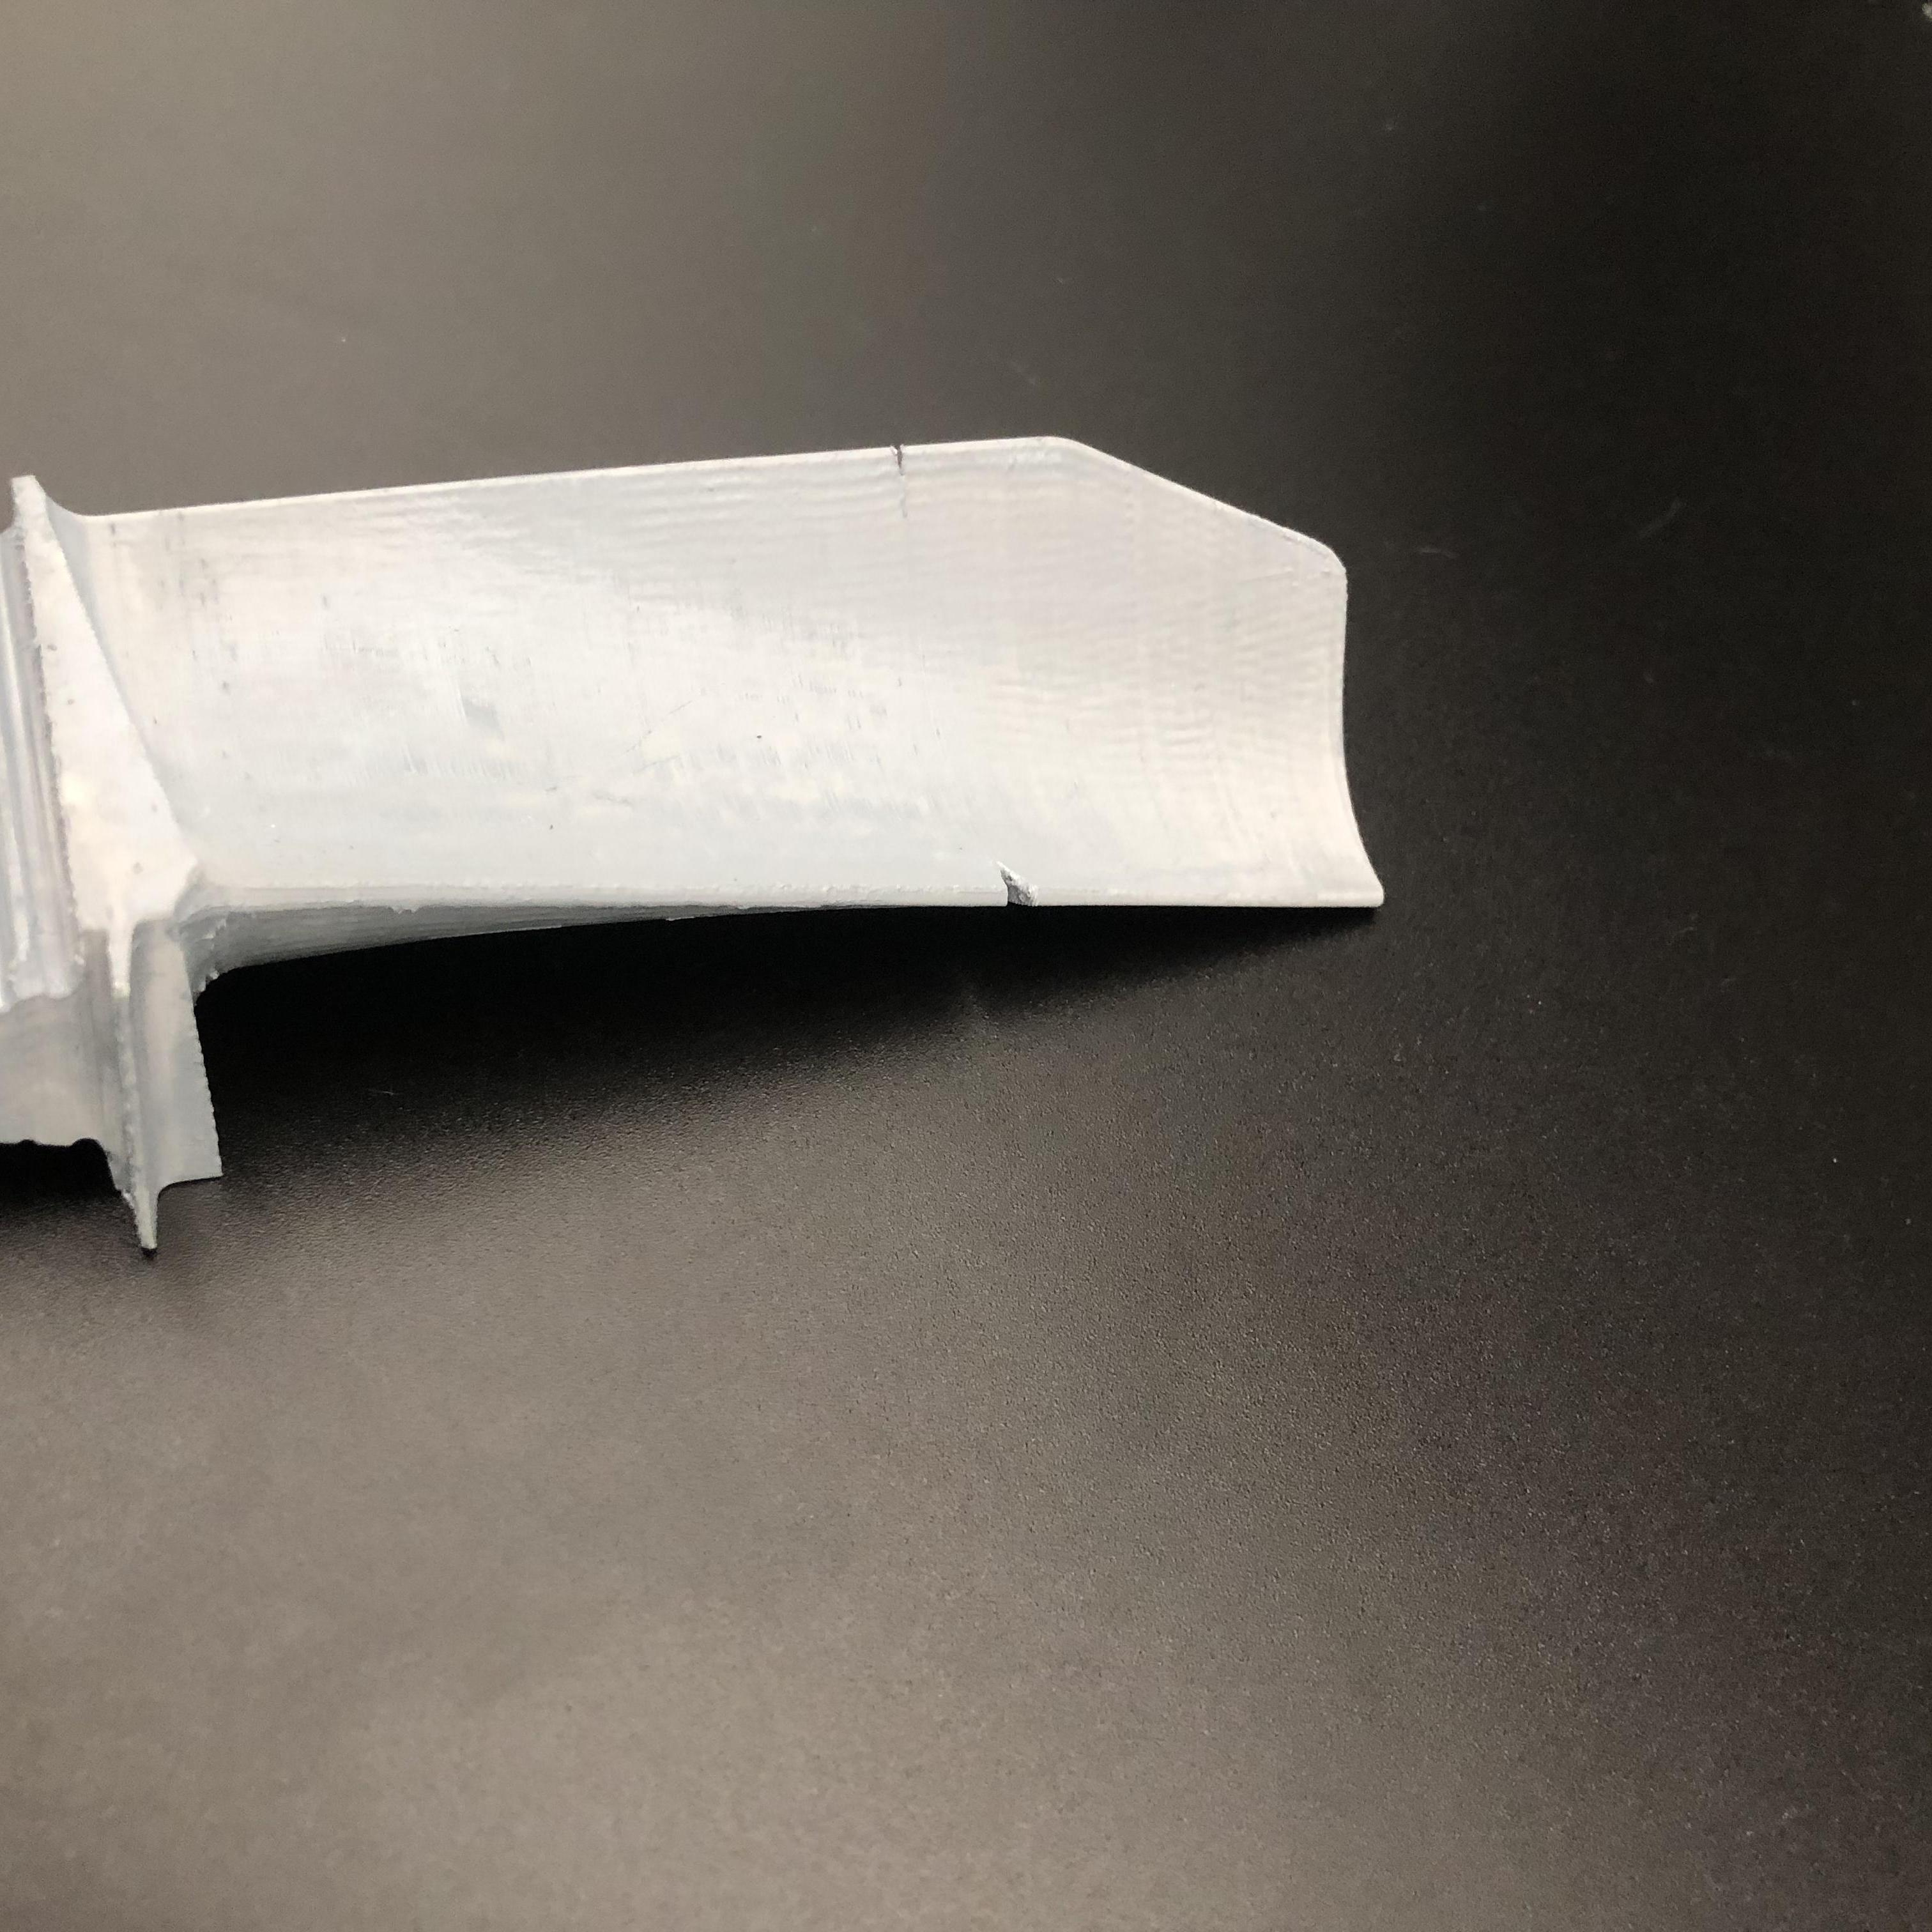groove: (987, 860, 1058, 908), (885, 444, 916, 487)
